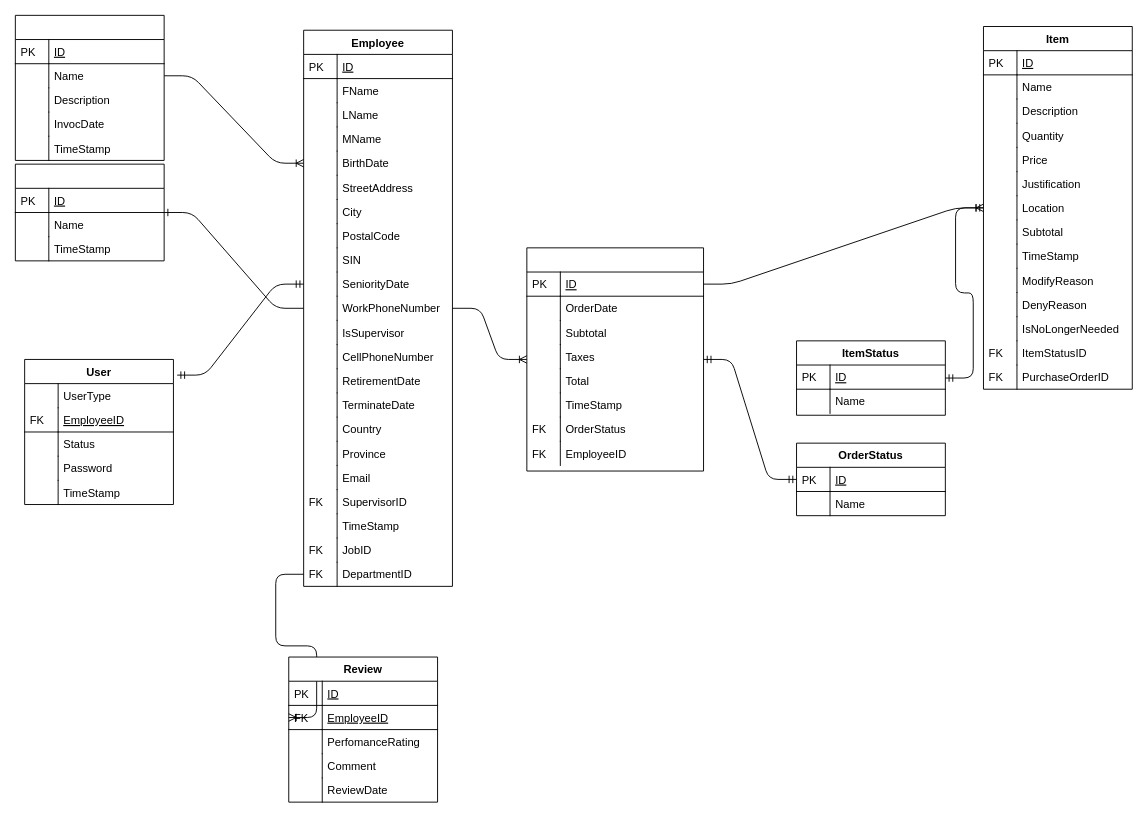
The diagram is 1148 pixels wide and 817 high, and some of its shapes have lost their labels. The box of each missing label's shape, as (x1, y1, x2, y2) in pixels:
Department: (14, 14, 164, 160)
Job: (14, 163, 164, 261)
PurchaseOrder: (526, 247, 704, 471)
